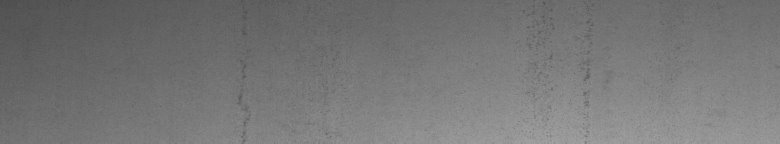ib: (520, 10, 594, 108)
